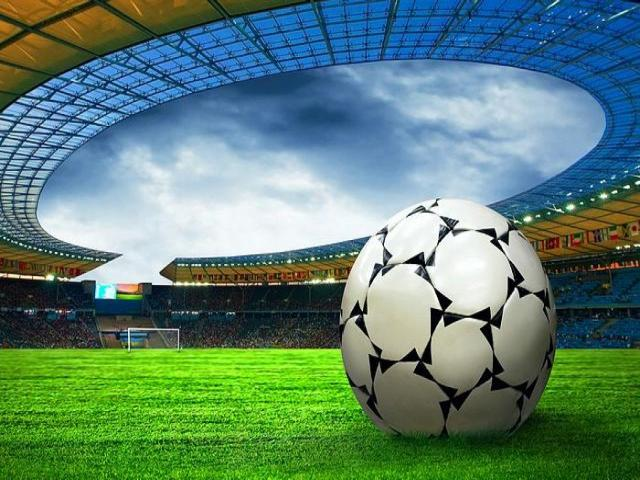round ball: (340, 199, 555, 436)
